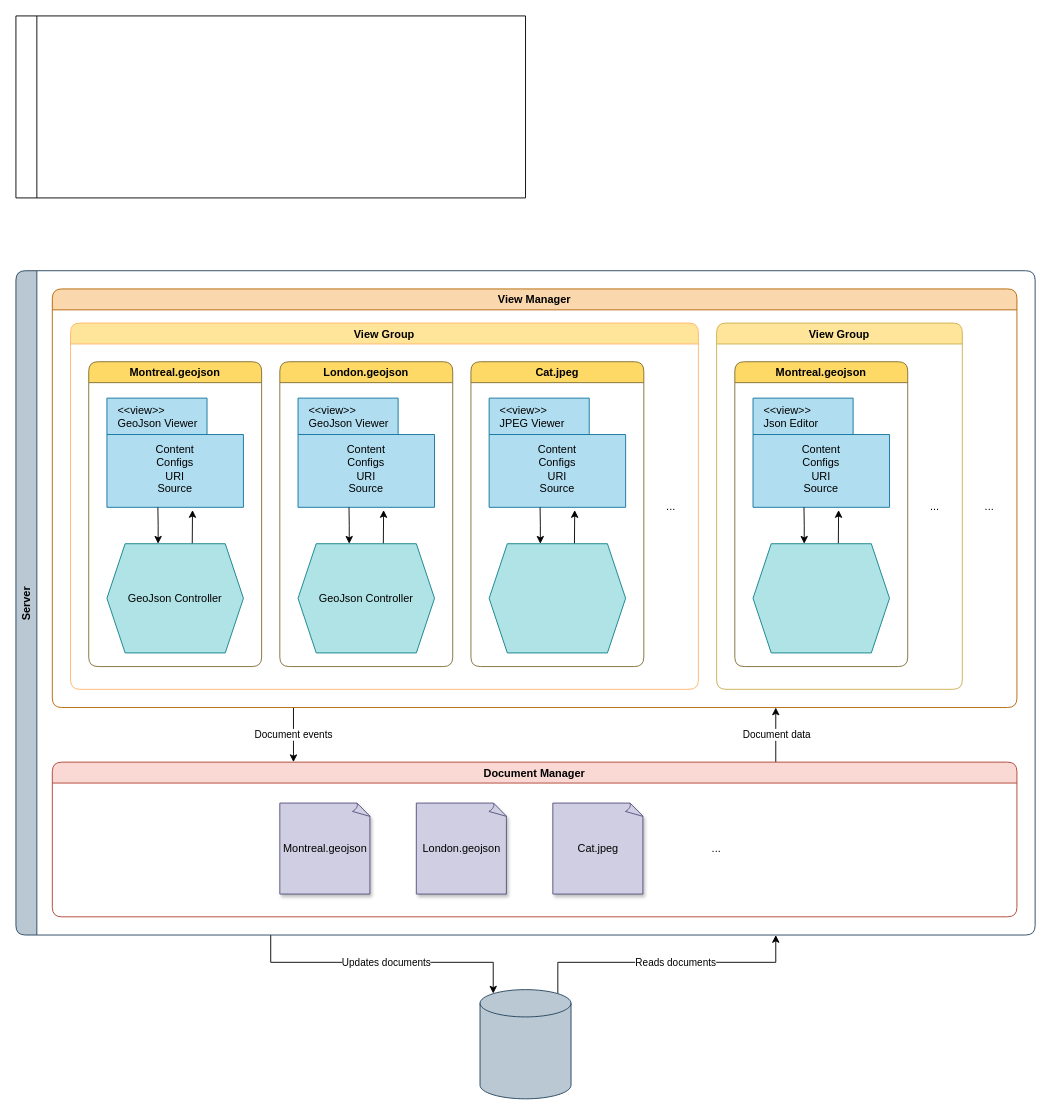
Image size: 1051x1115. Some labels were removed from this diagram. The centre of each missing label's shape, as x and y in pixels:
"Client" belongs at (x=270, y=106).
"File system" belongs at (x=525, y=1044).
"JPEG Controller" belongs at (x=557, y=598).
"Json Controller" belongs at (x=821, y=598).
